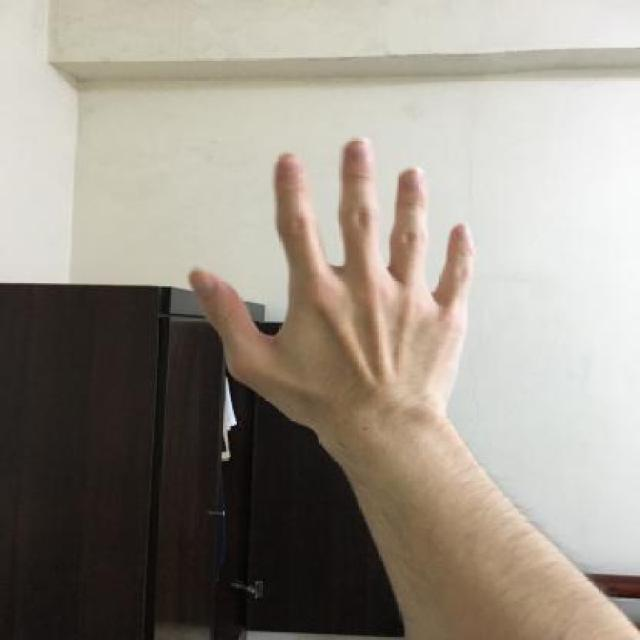no_glove: (178, 128, 496, 454)
